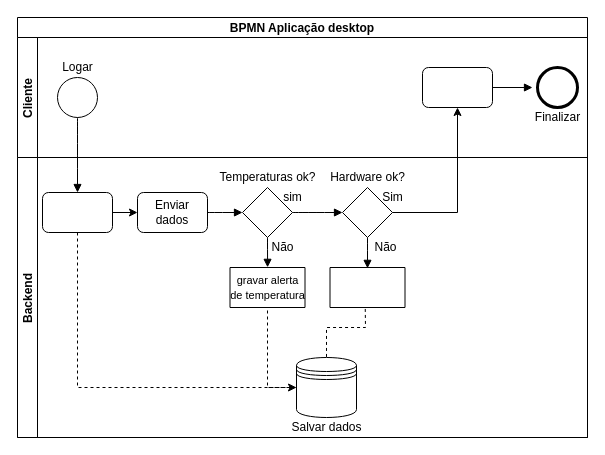
This 605x455 diagram has some shape labels left out. Here are the shapes that lost their labels. From the top down, the centre of each, then its label:
the point at 457,87: Visualizar dados
the point at 77,212: coletar dados
the point at 367,287: gravar alerta de hardware
